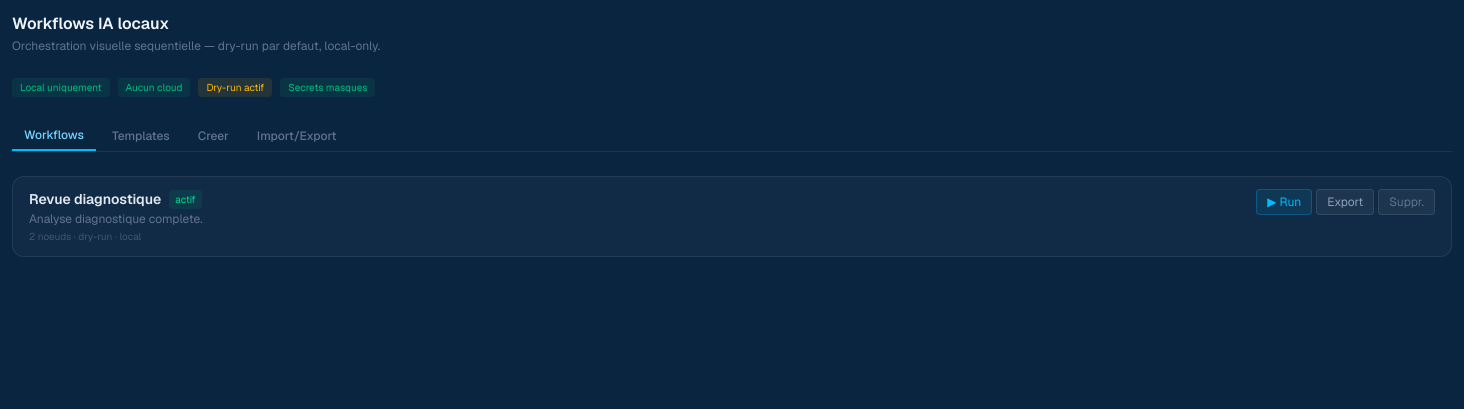
WorkflowsPanel › bascule vers l'onglet Import/Export
What coordinates should you click on to do the following:
click the button "Import/Export"
I would click on:
 (297, 136)
Its box is [245,121,348,151].
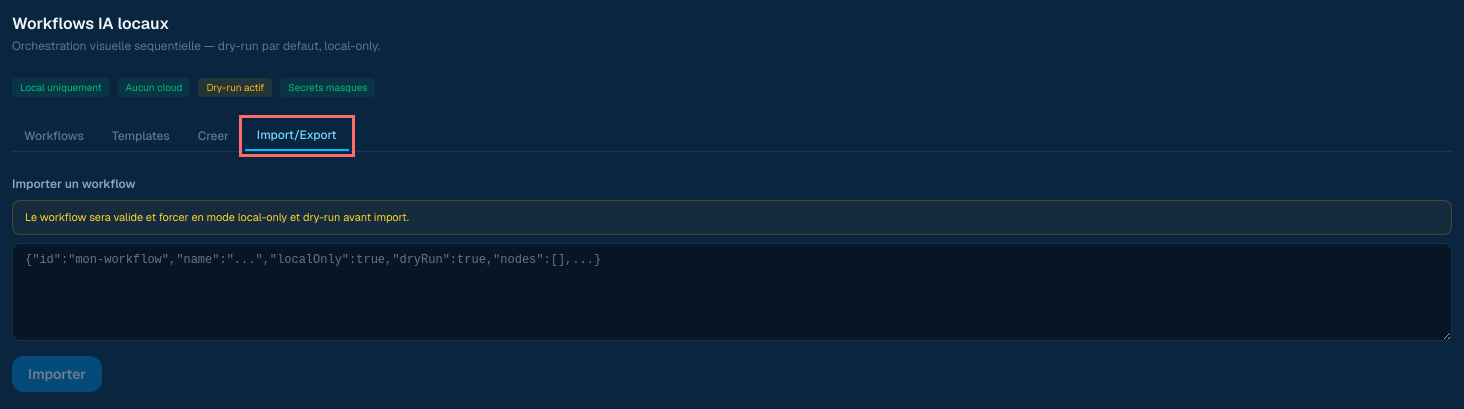
Expected: the text "Importer un workflow" is shown, [12,176,136,192]
